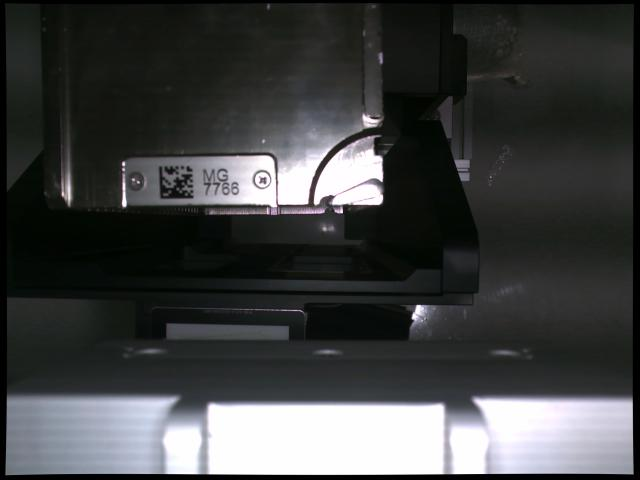jig_latch: (331, 179, 382, 205)
